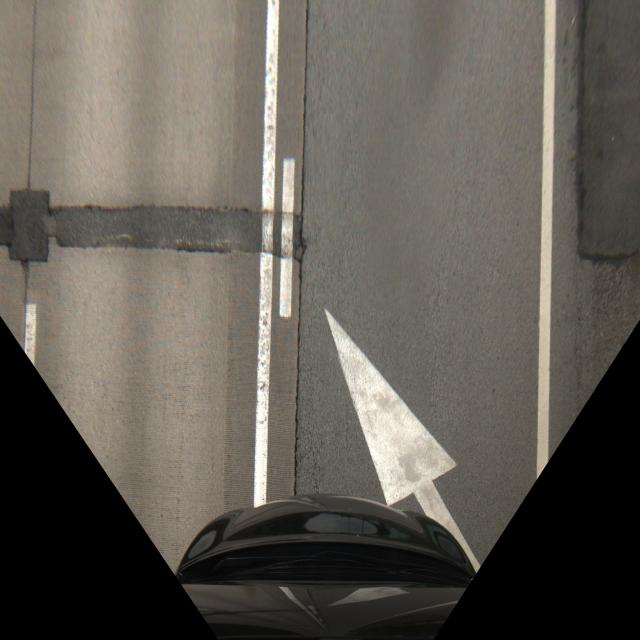chang_lane_left: (259, 291, 548, 530)
